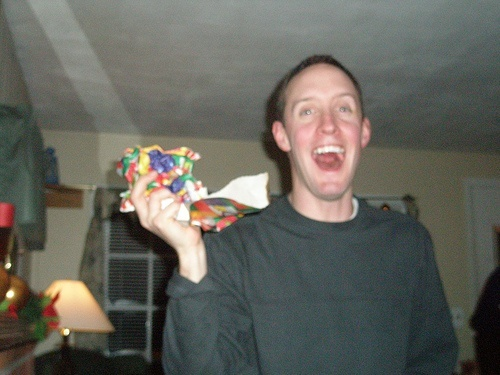head: (271, 55, 373, 202)
person: (123, 51, 467, 372)
